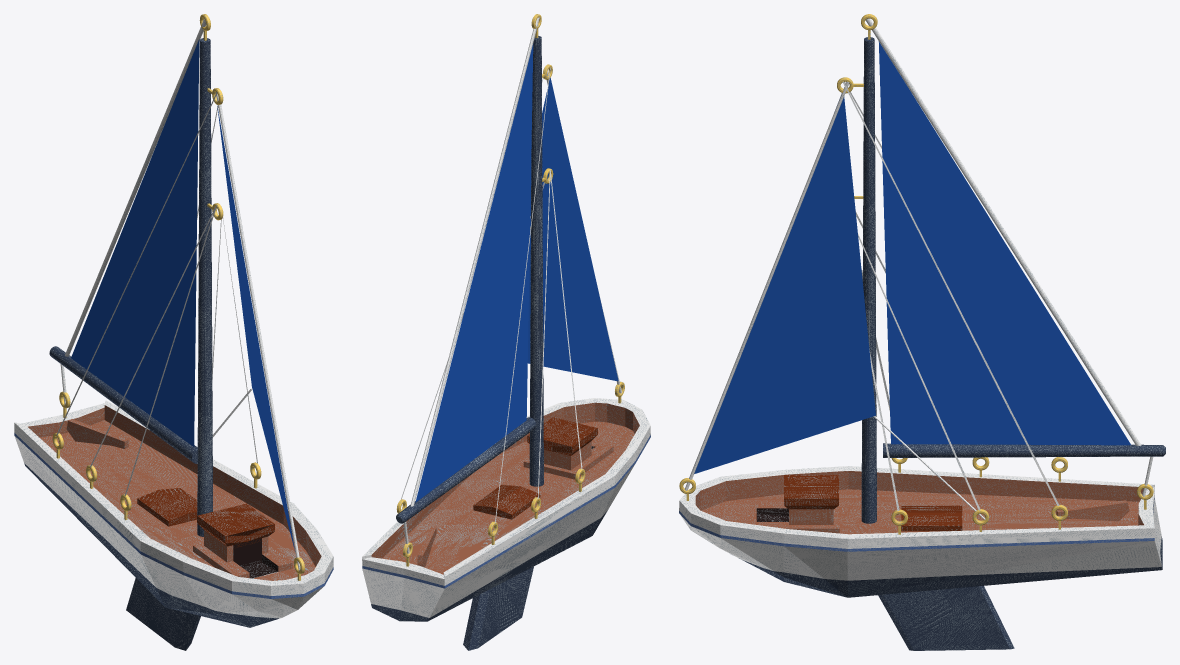
File: sailboat.dae
3 renders of one model, left to right at view 1: azimuth 30°, elevation 25°; view 2: azimuth 150°, elevation 25°; view 3: azimuth 270°, elevation 25°, orthographic. The views are drawn at different scales.
Visible parts, largest first — view 1: SketchUp (×18); view 2: SketchUp (×13); view 3: SketchUp (×15).
Part boxes in pixels (<box>): SketchUp (×18): <box>14,19,333,650</box>; SketchUp (×13): <box>362,17,650,650</box>; SketchUp (×15): <box>679,18,1165,650</box>.
Bounding box in the file's own units: 107 × 300 × 432.
